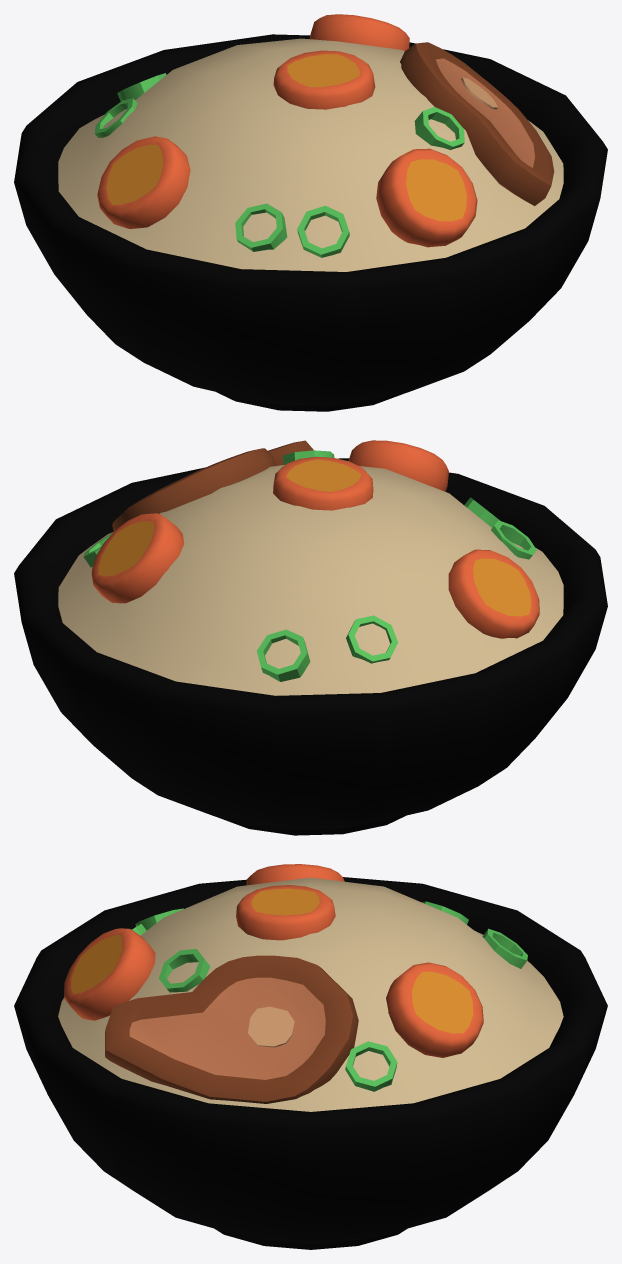
File: ASFTR_Bowl_RiceHumanCarrotOnion.fbx
3 views of the same model, one above another, from view 1: azimuth 30°, elevation 25°; view 2: azimuth 150°, elevation 25°; view 3: azimuth 270°, elevation 25° (orthographic).
Visible parts, largest first — view 1: ASFTR_Bowl_RiceHumanCarrotOnion; view 2: ASFTR_Bowl_RiceHumanCarrotOnion; view 3: ASFTR_Bowl_RiceHumanCarrotOnion.
Part boxes in pixels (x1=…): ASFTR_Bowl_RiceHumanCarrotOnion: x1=14, y1=14, x2=607, y2=411; ASFTR_Bowl_RiceHumanCarrotOnion: x1=14, y1=440, x2=607, y2=835; ASFTR_Bowl_RiceHumanCarrotOnion: x1=14, y1=864, x2=607, y2=1249.
Size of the model in its own units: 60.78 by 33.6 by 60.78.
